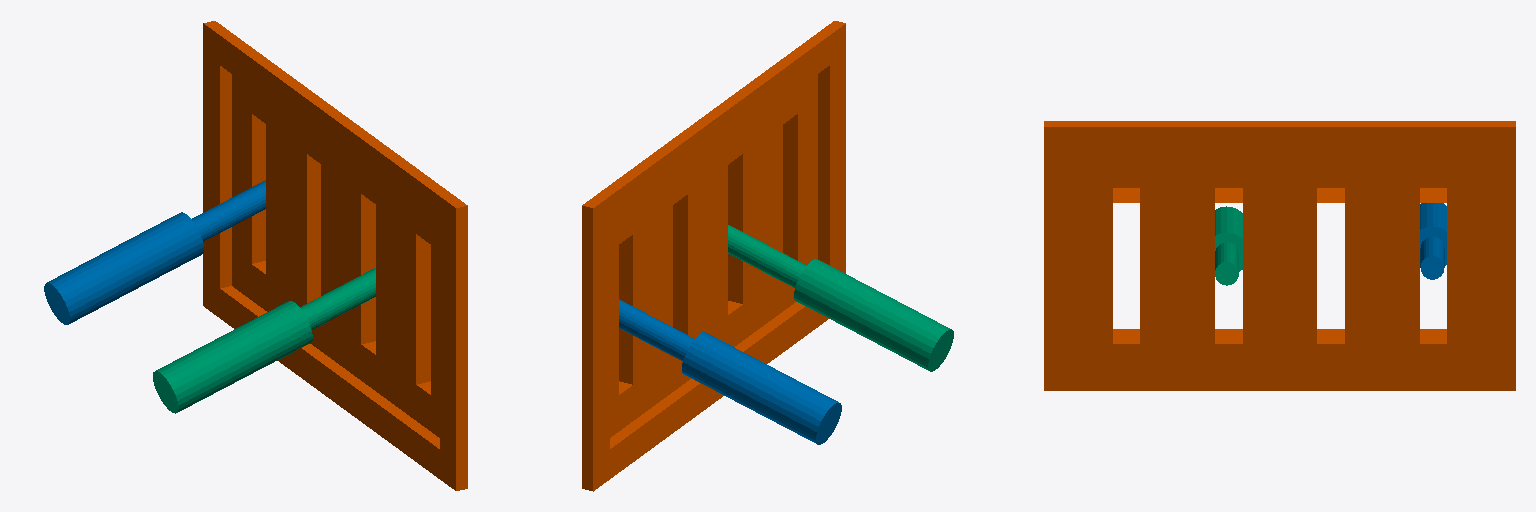
The robot description file, URDF, robot "partnet_367cf1804054c94c297c85b9a7ad9cde":
<?xml version="1.0" ?>
<robot name="partnet_367cf1804054c94c297c85b9a7ad9cde">
	<link name="base"/>
	<link name="link_0">
		<visual name="switch-1">
			<origin xyz="-0.6004359999999993 -0.05795399702183715 0.21110114892914889"/>
			<geometry>
				<mesh filename="textured_objs/original-1.obj"/>
			</geometry>
		</visual>
		<collision>
			<origin xyz="-0.6004359999999993 -0.05795399702183715 0.21110114892914889"/>
			<geometry>
				<mesh filename="textured_objs/original-1.obj"/>
			</geometry>
		</collision>
	</link>
	<joint name="joint_0" type="revolute">
		<origin xyz="0.6004359999999993 0.05795399702183715 -0.21110114892914889"/>
		<axis xyz="-1 0 0"/>
		<child link="link_0"/>
		<parent link="link_4"/>
		<limit lower="-0.8293804605477054" upper="1.426283064729766"/>
	</joint>
	<link name="link_1">
		<visual name="switch-2">
			<origin xyz="-0.6004359999999993 -0.05795399702183715 0.21110114892914889"/>
			<geometry>
				<mesh filename="textured_objs/original-2.obj"/>
			</geometry>
		</visual>
		<collision>
			<origin xyz="-0.6004359999999993 -0.05795399702183715 0.21110114892914889"/>
			<geometry>
				<mesh filename="textured_objs/original-2.obj"/>
			</geometry>
		</collision>
	</link>
	<joint name="joint_1" type="revolute">
		<origin xyz="0.6004359999999993 0.05795399702183715 -0.21110114892914889"/>
		<axis xyz="-1 0 0"/>
		<child link="link_1"/>
		<parent link="link_4"/>
		<limit lower="-0.8293804605477054" upper="1.426283064729766"/>
	</joint>
	<link name="link_2">
		<visual name="switch-3">
			<origin xyz="-0.6004359999999993 -0.05795399702183715 0.21110114892914889"/>
			<geometry>
				<mesh filename="textured_objs/original-3.obj"/>
			</geometry>
		</visual>
		<collision>
			<origin xyz="-0.6004359999999993 -0.05795399702183715 0.21110114892914889"/>
			<geometry>
				<mesh filename="textured_objs/original-3.obj"/>
			</geometry>
		</collision>
	</link>
	<joint name="joint_2" type="revolute">
		<origin xyz="0.6004359999999993 0.05795399702183715 -0.21110114892914889"/>
		<axis xyz="-1 0 0"/>
		<child link="link_2"/>
		<parent link="link_4"/>
		<limit lower="-0.8293804605477054" upper="1.426283064729766"/>
	</joint>
	<link name="link_3">
		<visual name="switch-4">
			<origin xyz="-0.6004359999999993 -0.05795399702183715 0.21110114892914889"/>
			<geometry>
				<mesh filename="textured_objs/original-4.obj"/>
			</geometry>
		</visual>
		<collision>
			<origin xyz="-0.6004359999999993 -0.05795399702183715 0.21110114892914889"/>
			<geometry>
				<mesh filename="textured_objs/original-4.obj"/>
			</geometry>
		</collision>
	</link>
	<joint name="joint_3" type="revolute">
		<origin xyz="0.6004359999999993 0.05795399702183715 -0.21110114892914889"/>
		<axis xyz="-1 0 0"/>
		<child link="link_3"/>
		<parent link="link_4"/>
		<limit lower="-0.8293804605477054" upper="1.426283064729766"/>
	</joint>
	<link name="link_4">
		<visual name="base_body-5">
			<origin xyz="0 0 0"/>
			<geometry>
				<mesh filename="textured_objs/original-5.obj"/>
			</geometry>
		</visual>
		<collision>
			<origin xyz="0 0 0"/>
			<geometry>
				<mesh filename="textured_objs/original-5.obj"/>
			</geometry>
		</collision>
	</link>
	<joint name="joint_4" type="fixed">
		<origin rpy="1.570796326794897 0 -1.570796326794897" xyz="0 0 0"/>
		<child link="link_4"/>
		<parent link="base"/>
	</joint>
</robot>

--- Facts derived from the render (not from the file) ---
The picture shows the robot from 3 angles, left to right: view 1: azimuth 30°, elevation 25°; view 2: azimuth 150°, elevation 25°; view 3: azimuth 270°, elevation 25°; orthographic projection.
Robot: partnet_367cf1804054c94c297c85b9a7ad9cde — 6 links, 5 joints (4 revolute, 1 fixed); root link base; default pose: all joints at 0.
Links seen in each view (by area): view 1: link_4, link_1, link_3; view 2: link_4, link_1, link_3; view 3: link_4, link_1, link_3.
Link boxes in pixels (x1,y1,x2,y2): link_4: [203, 21, 467, 490]; link_1: [153, 268, 375, 413]; link_3: [44, 180, 265, 324]; link_4: [582, 21, 845, 491]; link_1: [728, 225, 953, 371]; link_3: [619, 299, 841, 444]; link_4: [1044, 121, 1515, 390]; link_1: [1215, 206, 1242, 285]; link_3: [1420, 203, 1446, 279].
Size in the robot's own frame: 0.9468 by 1.69 by 1.04 metres.
Meshes: 5 distinct files referenced, 3 mesh visuals loaded (3 OBJ); not drawn: 2 (reference not matched to a file when rendering).